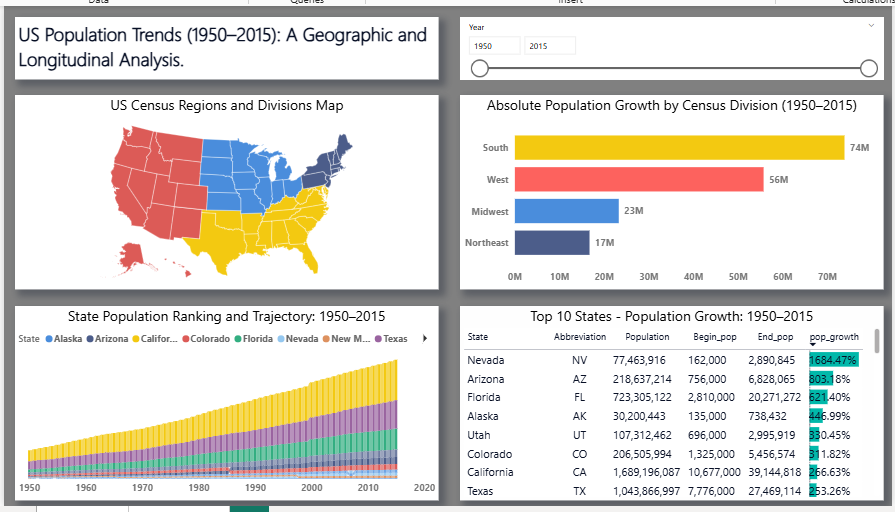

Layout of this report page (visuals, bound fields, positions):
{"tool":"powerbi","page":{"name":"Overview","canvas":[1280,720],"ordinal":0},"visuals":[{"type":"tableEx","fields":{"Values":["States.State","States.Abbreviation","_Measures.Population","_Measures.Begin_pop","_Measures.End_pop","_Measures.pop_growth"]},"box":[656,432,610,280],"z":0},{"type":"shapeMap","title":"US Census Regions and Divisions Map","fields":{"Category":["States.State"],"Series":["States.census_region"],"Value":["_Measures.States"]},"box":[16,128,610,280],"z":1000},{"type":"clusteredBarChart","title":"Absolute Population Growth by Census Division (1950–2015)","fields":{"Category":["States.census_region"],"Y":["_Measures.Division_pop Growth"]},"box":[656,128,610,280],"z":2000},{"type":"slicer","fields":{"Values":["States_population.Year"]},"box":[656,16,610,90],"z":3000},{"type":"ribbonChart","title":"State Population Ranking and Trajectory: 1950–2015","fields":{"Category":["States_population.Year"],"Series":["States.State"],"Y":["_Measures.Population"]},"box":[16,432,610,280],"z":4000},{"type":"textbox","box":[16,16,610,90],"z":5000}]}

Visuals, with their boxes on the page's 1280x720 design canvas (x1, y1, x2, y2). These are canvas units, not pixel positions in the 895x512 screenshot, which may show the page scaled, cropped or inside an application window:
tableEx - States.State x States.Abbreviation: 656,432,1266,712
"US Census Regions and Divisions Map" shapeMap: 16,128,626,408
"Absolute Population Growth by Census Division (1950–2015)" clusteredBarChart: 656,128,1266,408
slicer - States_population.Year: 656,16,1266,106
"State Population Ranking and Trajectory: 1950–2015" ribbonChart: 16,432,626,712
textbox: 16,16,626,106
